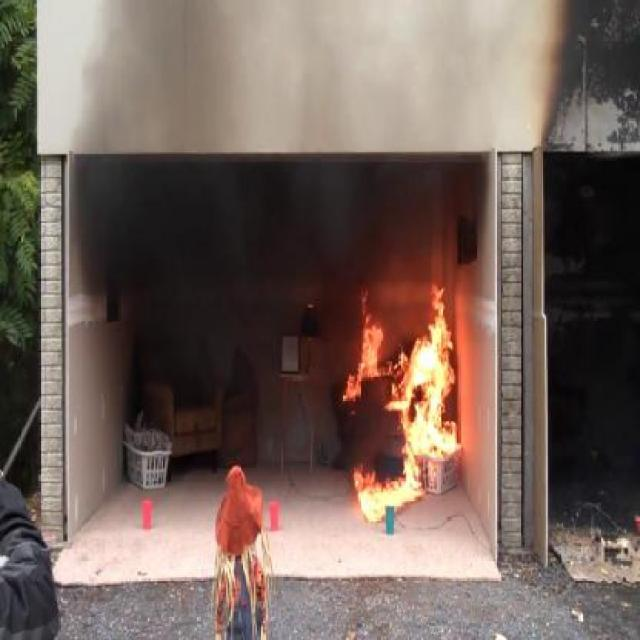fire: (363, 289, 459, 506)
smoke: (104, 98, 333, 438)
